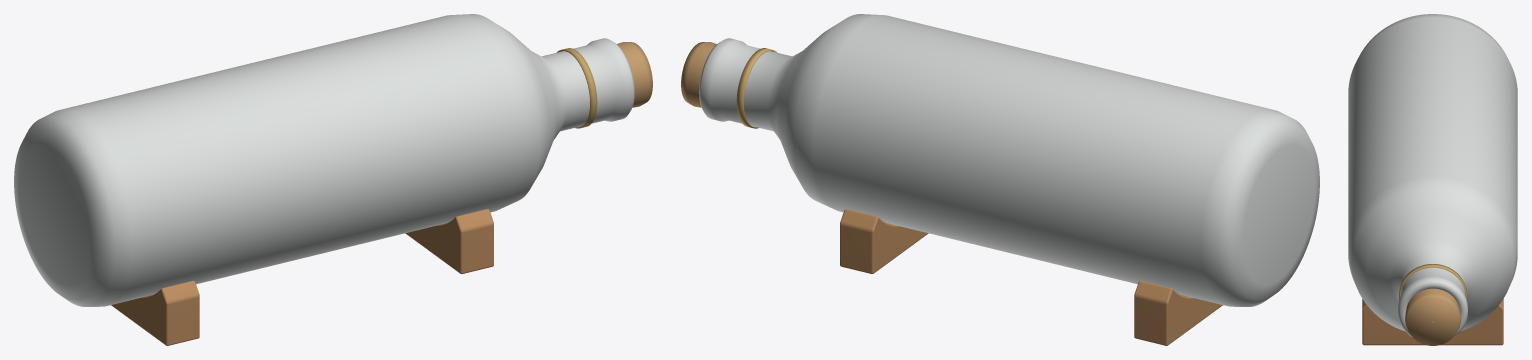
Rendered from steamboat-bottle-v5.fbx.
3 renders of one model, left to right at view 1: azimuth 30°, elevation 25°; view 2: azimuth 150°, elevation 25°; view 3: azimuth 270°, elevation 25°, orthographic. The views are drawn at different scales.
Visible parts, largest first — view 1: Bottle | thick transparent glass, Cradle | shaped maple saddle, Cradle | shaped maple saddle.001, Bottle | cork stopper, Bottle | neck brass collar; view 2: Bottle | thick transparent glass, Cradle | shaped maple saddle, Cradle | shaped maple saddle.001, Bottle | cork stopper, Bottle | neck brass collar; view 3: Bottle | thick transparent glass, Cradle | shaped maple saddle.001, Bottle | cork stopper, Bottle | neck brass collar.
Boxes of the visible parts, x1,y1,x2,y2 form: Bottle | thick transparent glass: (14,14,634,306); Cradle | shaped maple saddle: (111,280,199,345); Cradle | shaped maple saddle.001: (405,209,493,273); Bottle | cork stopper: (617,42,652,107); Bottle | neck brass collar: (557,48,597,128); Bottle | thick transparent glass: (699,14,1319,306); Cradle | shaped maple saddle: (1134,280,1222,345); Cradle | shaped maple saddle.001: (840,209,928,273); Bottle | cork stopper: (681,42,716,107); Bottle | neck brass collar: (736,48,776,128); Bottle | thick transparent glass: (1348,14,1517,336); Cradle | shaped maple saddle.001: (1362,299,1503,345); Bottle | cork stopper: (1405,288,1460,345); Bottle | neck brass collar: (1399,264,1466,299).
Bounding box in the file's own units: 188 × 64.7 × 56.4.
